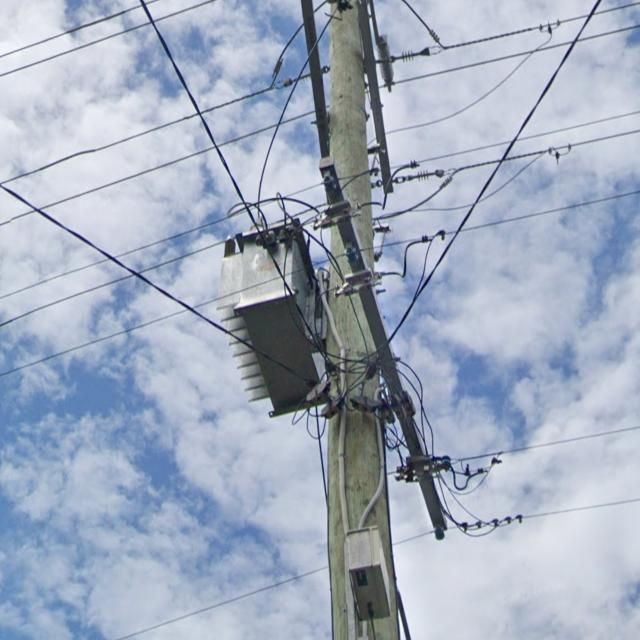HV-transmission: (270, 0, 443, 94)
LV link: (313, 167, 459, 229), (336, 230, 445, 293)
crossarm: (319, 157, 448, 541), (356, 0, 394, 194), (300, 0, 328, 158)
timber-pole: (329, 0, 398, 640)
transformer: (221, 222, 335, 420)
